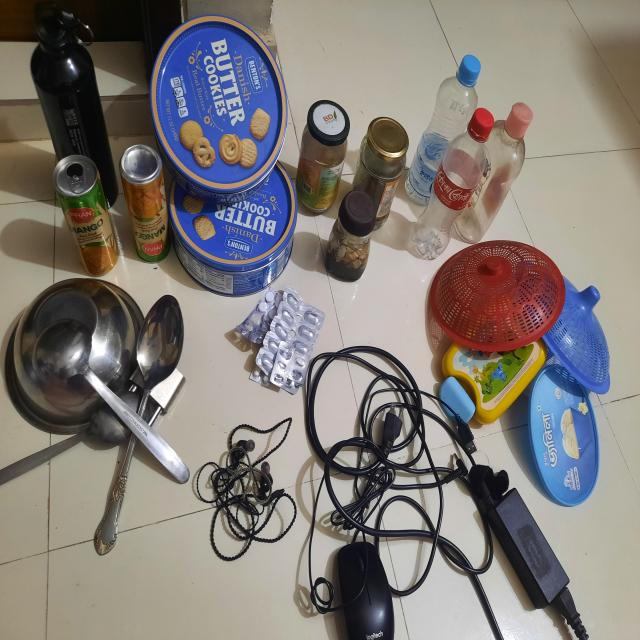Cable: (306, 339, 478, 640), (190, 417, 309, 564)
Glass: (296, 156, 414, 274)
Medical Waste: (221, 270, 327, 392)
Metal: (7, 270, 200, 544)
Plastics: (434, 237, 634, 441), (417, 40, 524, 254)
can: (17, 11, 294, 280), (307, 94, 416, 146)
